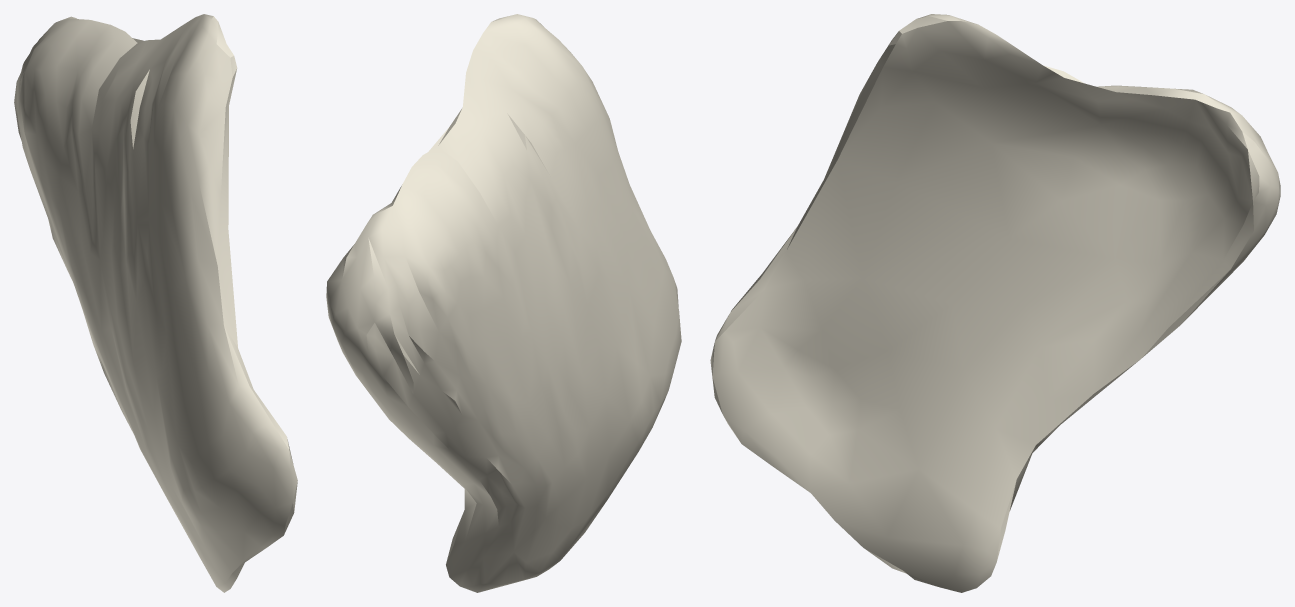
Rendered from fma326802-r_mm1489m.glb.
3 views of the same model, side by side, from view 1: azimuth 30°, elevation 25°; view 2: azimuth 150°, elevation 25°; view 3: azimuth 270°, elevation 25° (orthographic). The views are drawn at different scales.
Visible parts, largest first — view 1: FMA326802-R_MM1489M; view 2: FMA326802-R_MM1489M; view 3: FMA326802-R_MM1489M.
Boxes of the visible parts, x1,y1,x2,y2 form: FMA326802-R_MM1489M: [14, 14, 297, 592]; FMA326802-R_MM1489M: [326, 14, 681, 592]; FMA326802-R_MM1489M: [710, 14, 1280, 592].
Size of the model in its own units: 0.00355 by 0.0155 by 0.0141.
